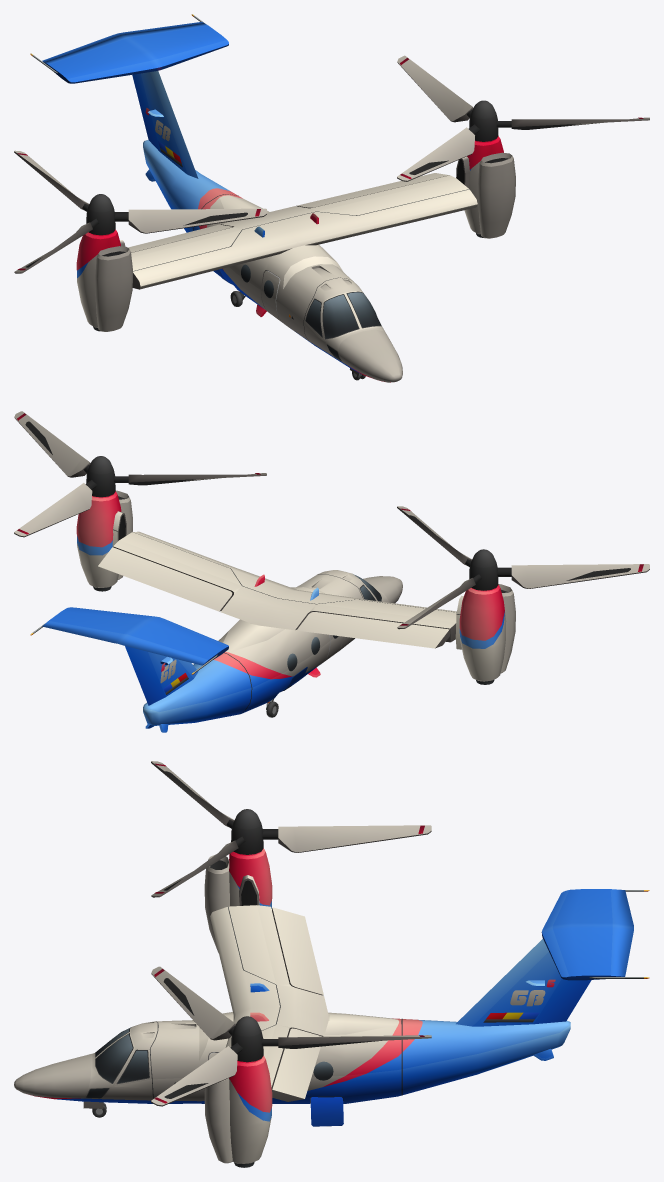
3 renders of one model, top to bottom at view 1: azimuth 30°, elevation 25°; view 2: azimuth 150°, elevation 25°; view 3: azimuth 270°, elevation 25°, orthographic. The views are drawn at different scales.
Parts seen in each view (by area): view 1: Fuselage_Plane_3B, Rotor_3B_L, Rotor_3B_R, Engine_3B_R, Engine_3B_L, Flap_3B_L, Flap_3B_R; view 2: Fuselage_Plane_3B, Rotor_3B_L, Engine_3B_R, Rotor_3B_R, Engine_3B_L, Flap_3B_L, Flap_3B_R; view 3: Fuselage_Plane_3B, Rotor_3B_L, Rotor_3B_R, Engine_3B_L, Engine_3B_R, Flap_3B_R, Flap_3B_L, Hatch_3B_R.L.
Part boxes in pixels (box(x1,y1,x2,y2)): Fuselage_Plane_3B: box(30, 14, 477, 382); Rotor_3B_L: box(397, 55, 649, 181); Rotor_3B_R: box(14, 150, 266, 273); Engine_3B_R: box(76, 229, 132, 331); Engine_3B_L: box(456, 136, 515, 238); Flap_3B_L: box(296, 173, 449, 208); Flap_3B_R: box(128, 224, 232, 252); Fuselage_Plane_3B: box(30, 531, 456, 732); Rotor_3B_L: box(14, 411, 266, 537); Engine_3B_R: box(455, 584, 515, 684); Rotor_3B_R: box(397, 506, 649, 629); Engine_3B_L: box(76, 490, 132, 591); Flap_3B_L: box(98, 547, 232, 611); Flap_3B_R: box(296, 612, 449, 648); Fuselage_Plane_3B: box(14, 889, 649, 1103); Rotor_3B_L: box(151, 966, 431, 1106); Rotor_3B_R: box(151, 761, 431, 897); Engine_3B_L: box(204, 1055, 272, 1167); Engine_3B_R: box(204, 848, 272, 953); Flap_3B_R: box(272, 907, 323, 995); Flap_3B_L: box(272, 1028, 321, 1101); Hatch_3B_R.L: box(310, 1096, 343, 1126).
Size of the model in its own units: 17.66 by 4.85 by 13.82.
